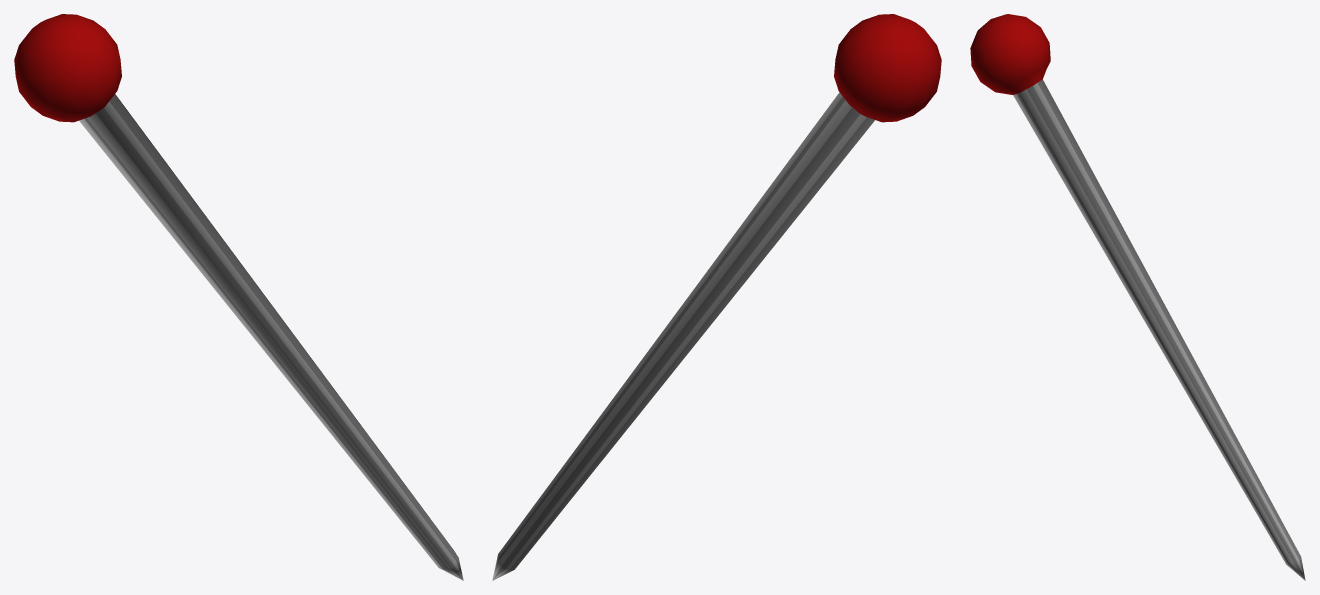
Rendered from NuppiNeula_PickUP.fbx.
3 renders of one model, left to right at view 1: azimuth 30°, elevation 25°; view 2: azimuth 150°, elevation 25°; view 3: azimuth 330°, elevation 25°, orthographic. The views are drawn at different scales.
Parts seen in each view (by area): view 1: NuppiNeula_pickup; view 2: NuppiNeula_pickup; view 3: NuppiNeula_pickup.
Part boxes in pixels (x1,y1,x2,y2): NuppiNeula_pickup: (14, 14, 463, 580); NuppiNeula_pickup: (492, 14, 941, 580); NuppiNeula_pickup: (970, 14, 1305, 580).
Bounding box in the file's own units: 1.01 × 1.44 × 0.212.
